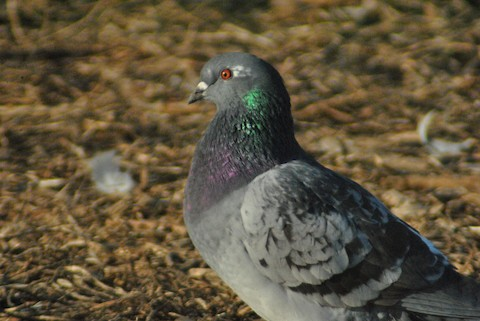pigeon: (180, 46, 473, 315)
